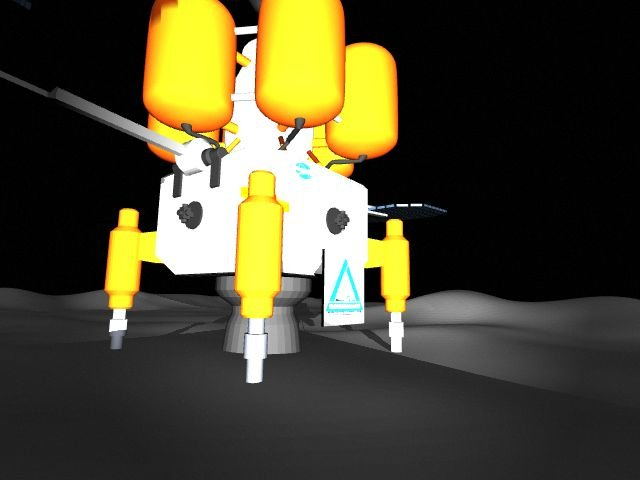basemarker: (325, 258, 364, 316)
